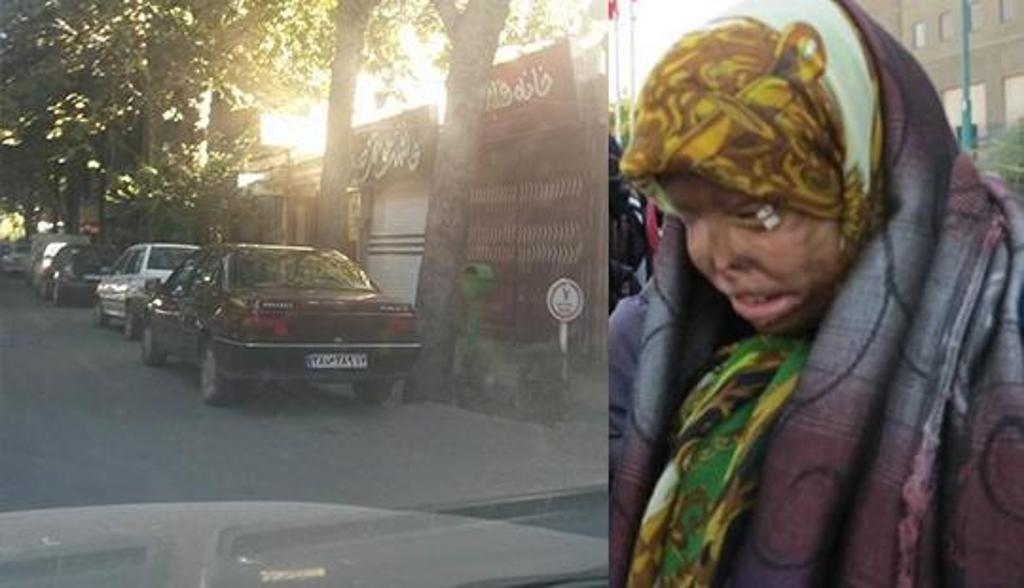face: (663, 155, 847, 325)
